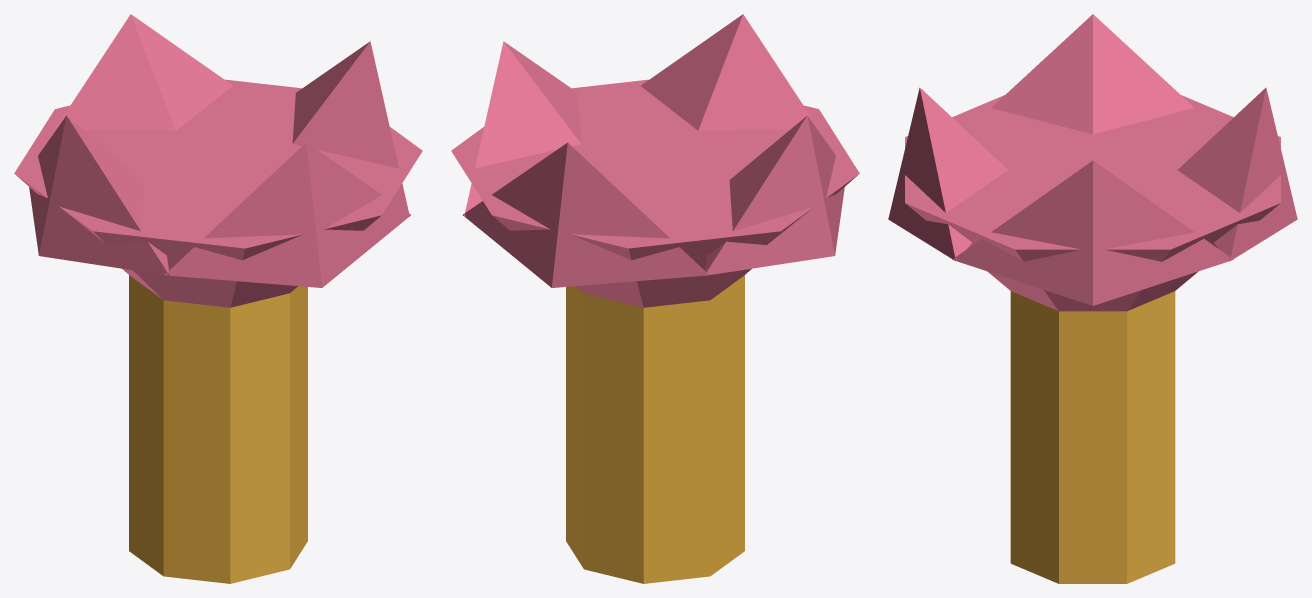
Rendered from puffer_barrel.glb.
The picture shows the model from 3 angles, left to right: view 1: azimuth 30°, elevation 25°; view 2: azimuth 150°, elevation 25°; view 3: azimuth 270°, elevation 25°; orthographic projection.
Parts seen in each view (by area): view 1: Mouth, Barrel; view 2: Mouth, Barrel; view 3: Mouth, Barrel.
Part boxes in pixels (x1,y1,x2,y2): Mouth: (14,14,422,307); Barrel: (129,275,307,583); Mouth: (451,14,859,307); Barrel: (566,275,744,583); Mouth: (888,14,1297,311); Barrel: (1010,291,1175,583).
Size of the model in its own units: 0.8712 by 1.08 by 0.8712.
